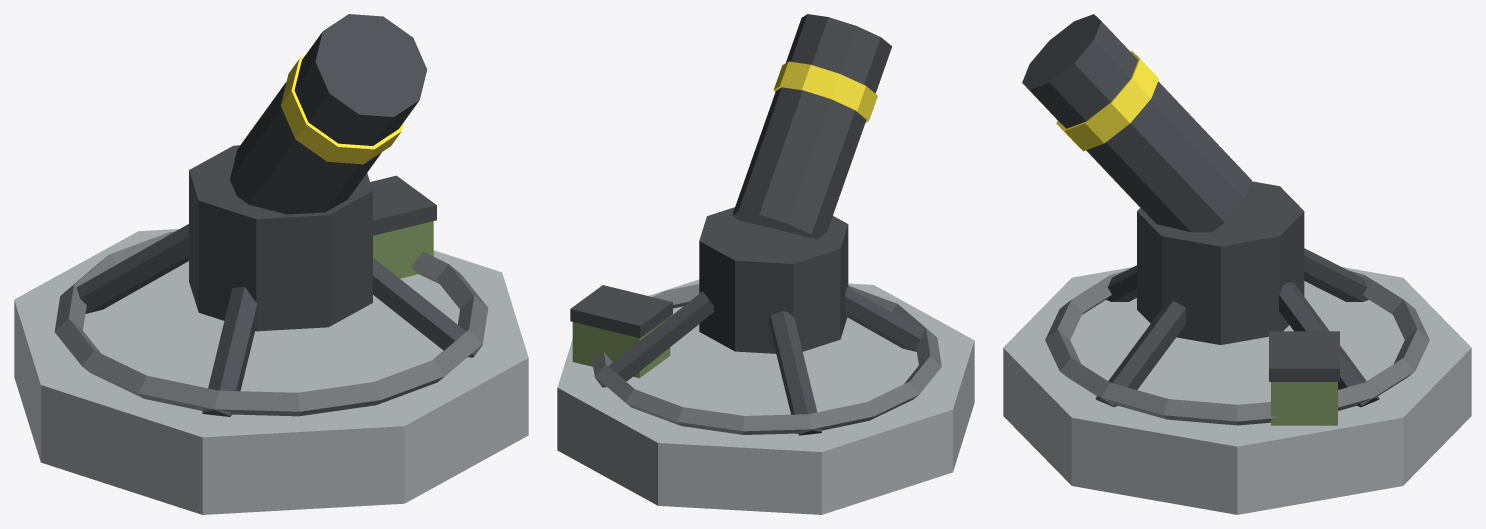
File: TD_MortarTower_T1.fbx
3 views of the same model, side by side, from view 1: azimuth 30°, elevation 25°; view 2: azimuth 150°, elevation 25°; view 3: azimuth 270°, elevation 25° (orthographic). The views are drawn at different scales.
Visible parts, largest first — view 1: TD_MortarTower_T1_Base, TD_MortarTower_T1_BarrelSupport, TD_MortarTower_T1_MortarBarrel, TD_MortarTower_T1_DarkBaseBrace, TD_MortarTower_T1_Leg_02, TD_MortarTower_T1_Leg_03, TD_MortarTower_T1_Leg_04, TD_MortarTower_T1_YellowBarrelRing, TD_MortarTower_T1_AmmoBox_Lid, TD_MortarTower_T1_AmmoBox; view 2: TD_MortarTower_T1_Base, TD_MortarTower_T1_MortarBarrel, TD_MortarTower_T1_BarrelSupport, TD_MortarTower_T1_DarkBaseBrace, TD_MortarTower_T1_AmmoBox_Lid, TD_MortarTower_T1_Leg_01, TD_MortarTower_T1_Leg_02, TD_MortarTower_T1_YellowBarrelRing, TD_MortarTower_T1_Leg_03, TD_MortarTower_T1_AmmoBox; view 3: TD_MortarTower_T1_Base, TD_MortarTower_T1_MortarBarrel, TD_MortarTower_T1_BarrelSupport, TD_MortarTower_T1_DarkBaseBrace, TD_MortarTower_T1_AmmoBox_Lid, TD_MortarTower_T1_YellowBarrelRing, TD_MortarTower_T1_AmmoBox, TD_MortarTower_T1_Leg_04, TD_MortarTower_T1_Leg_01, TD_MortarTower_T1_Leg_02, TD_MortarTower_T1_Leg_03.
Part boxes in pixels (bbox=[...]): TD_MortarTower_T1_Base: bbox=[14, 229, 528, 514]; TD_MortarTower_T1_BarrelSupport: bbox=[189, 145, 372, 331]; TD_MortarTower_T1_MortarBarrel: bbox=[230, 14, 427, 214]; TD_MortarTower_T1_DarkBaseBrace: bbox=[54, 231, 488, 416]; TD_MortarTower_T1_Leg_02: bbox=[76, 224, 189, 313]; TD_MortarTower_T1_Leg_03: bbox=[202, 286, 257, 416]; TD_MortarTower_T1_Leg_04: bbox=[372, 258, 482, 357]; TD_MortarTower_T1_YellowBarrelRing: bbox=[280, 54, 403, 164]; TD_MortarTower_T1_AmmoBox_Lid: bbox=[370, 175, 436, 235]; TD_MortarTower_T1_AmmoBox: bbox=[373, 221, 433, 278]; TD_MortarTower_T1_Base: bbox=[557, 279, 974, 514]; TD_MortarTower_T1_MortarBarrel: bbox=[732, 14, 892, 239]; TD_MortarTower_T1_BarrelSupport: bbox=[699, 207, 848, 353]; TD_MortarTower_T1_DarkBaseBrace: bbox=[592, 284, 941, 434]; TD_MortarTower_T1_AmmoBox_Lid: bbox=[570, 285, 672, 338]; TD_MortarTower_T1_Leg_01: bbox=[595, 291, 713, 387]; TD_MortarTower_T1_Leg_02: bbox=[769, 311, 821, 435]; TD_MortarTower_T1_YellowBarrelRing: bbox=[773, 61, 877, 122]; TD_MortarTower_T1_Leg_03: bbox=[845, 287, 923, 351]; TD_MortarTower_T1_AmmoBox: bbox=[572, 316, 670, 378]; TD_MortarTower_T1_Base: bbox=[1003, 267, 1471, 514]; TD_MortarTower_T1_MortarBarrel: bbox=[1022, 14, 1251, 232]; TD_MortarTower_T1_BarrelSupport: bbox=[1137, 181, 1304, 344]; TD_MortarTower_T1_DarkBaseBrace: bbox=[1045, 270, 1429, 425]; TD_MortarTower_T1_AmmoBox_Lid: bbox=[1269, 331, 1339, 381]; TD_MortarTower_T1_YellowBarrelRing: bbox=[1056, 51, 1158, 151]; TD_MortarTower_T1_AmmoBox: bbox=[1271, 382, 1337, 425]; TD_MortarTower_T1_Leg_04: bbox=[1095, 301, 1185, 407]; TD_MortarTower_T1_Leg_01: bbox=[1279, 282, 1379, 407]; TD_MortarTower_T1_Leg_02: bbox=[1304, 248, 1368, 301]; TD_MortarTower_T1_Leg_03: bbox=[1106, 265, 1136, 301].
Bounding box in the file's own units: 1.12 × 1.04 × 1.12.
